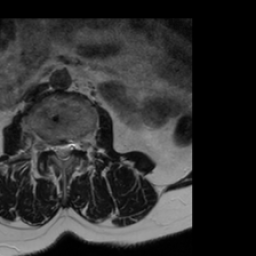CCS_normal: (59, 132, 66, 168)
LFS_normal: (74, 132, 82, 159)
LLS_normal: (66, 132, 74, 161)
RFS_stenosis: (43, 132, 51, 158)
RLS_normal: (51, 135, 59, 161)
